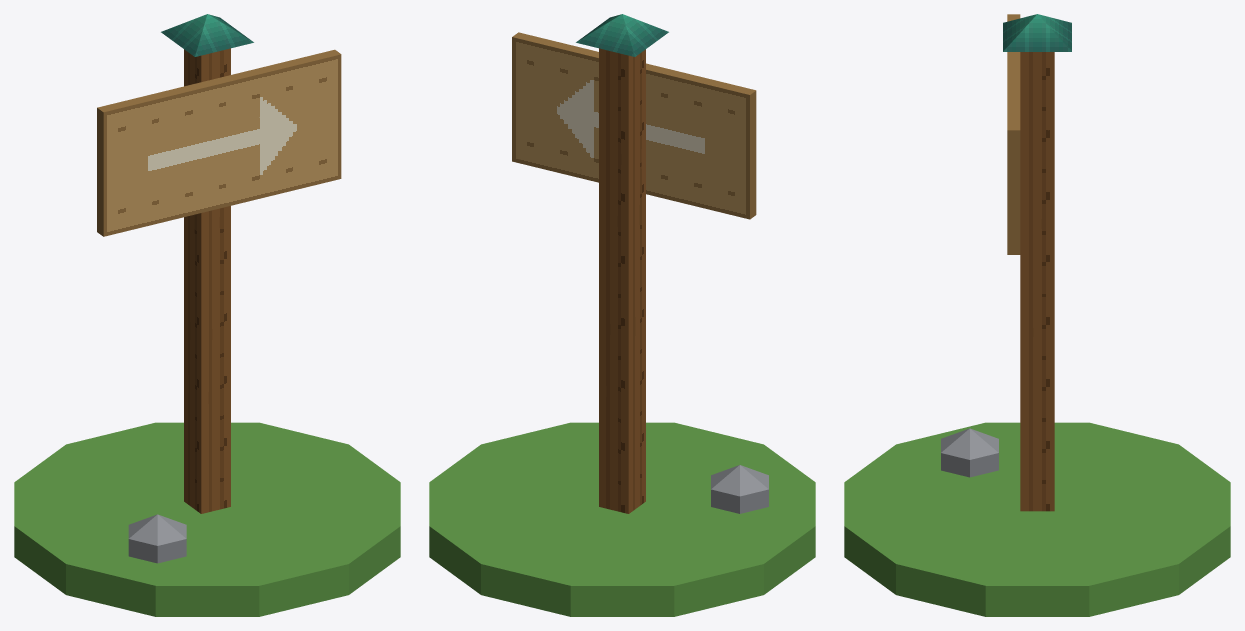
Rendered from signpost.glb.
3 views of the same model, side by side, from view 1: azimuth 30°, elevation 25°; view 2: azimuth 150°, elevation 25°; view 3: azimuth 270°, elevation 25° (orthographic).
Visible parts, largest first — view 1: mound, sign, stone; view 2: mound, sign, stone; view 3: mound, sign, stone.
Part boxes in pixels (x1,y1,x2,y2): mound: (14,422,400,616); sign: (97,14,341,513); stone: (128,514,186,563); mound: (429,422,815,616); sign: (512,14,756,513); stone: (711,465,768,513); mound: (844,422,1230,616); sign: (1003,14,1071,511); stone: (941,428,998,477).
Bounding box in the file's own units: 0.9 × 1.35 × 0.9.
1 material, 1 textured.
